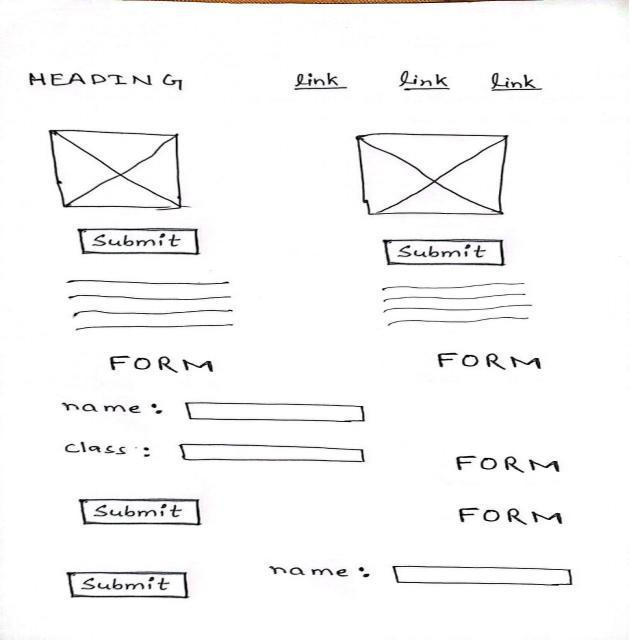textbox: (388, 555, 581, 591), (180, 395, 374, 425)
